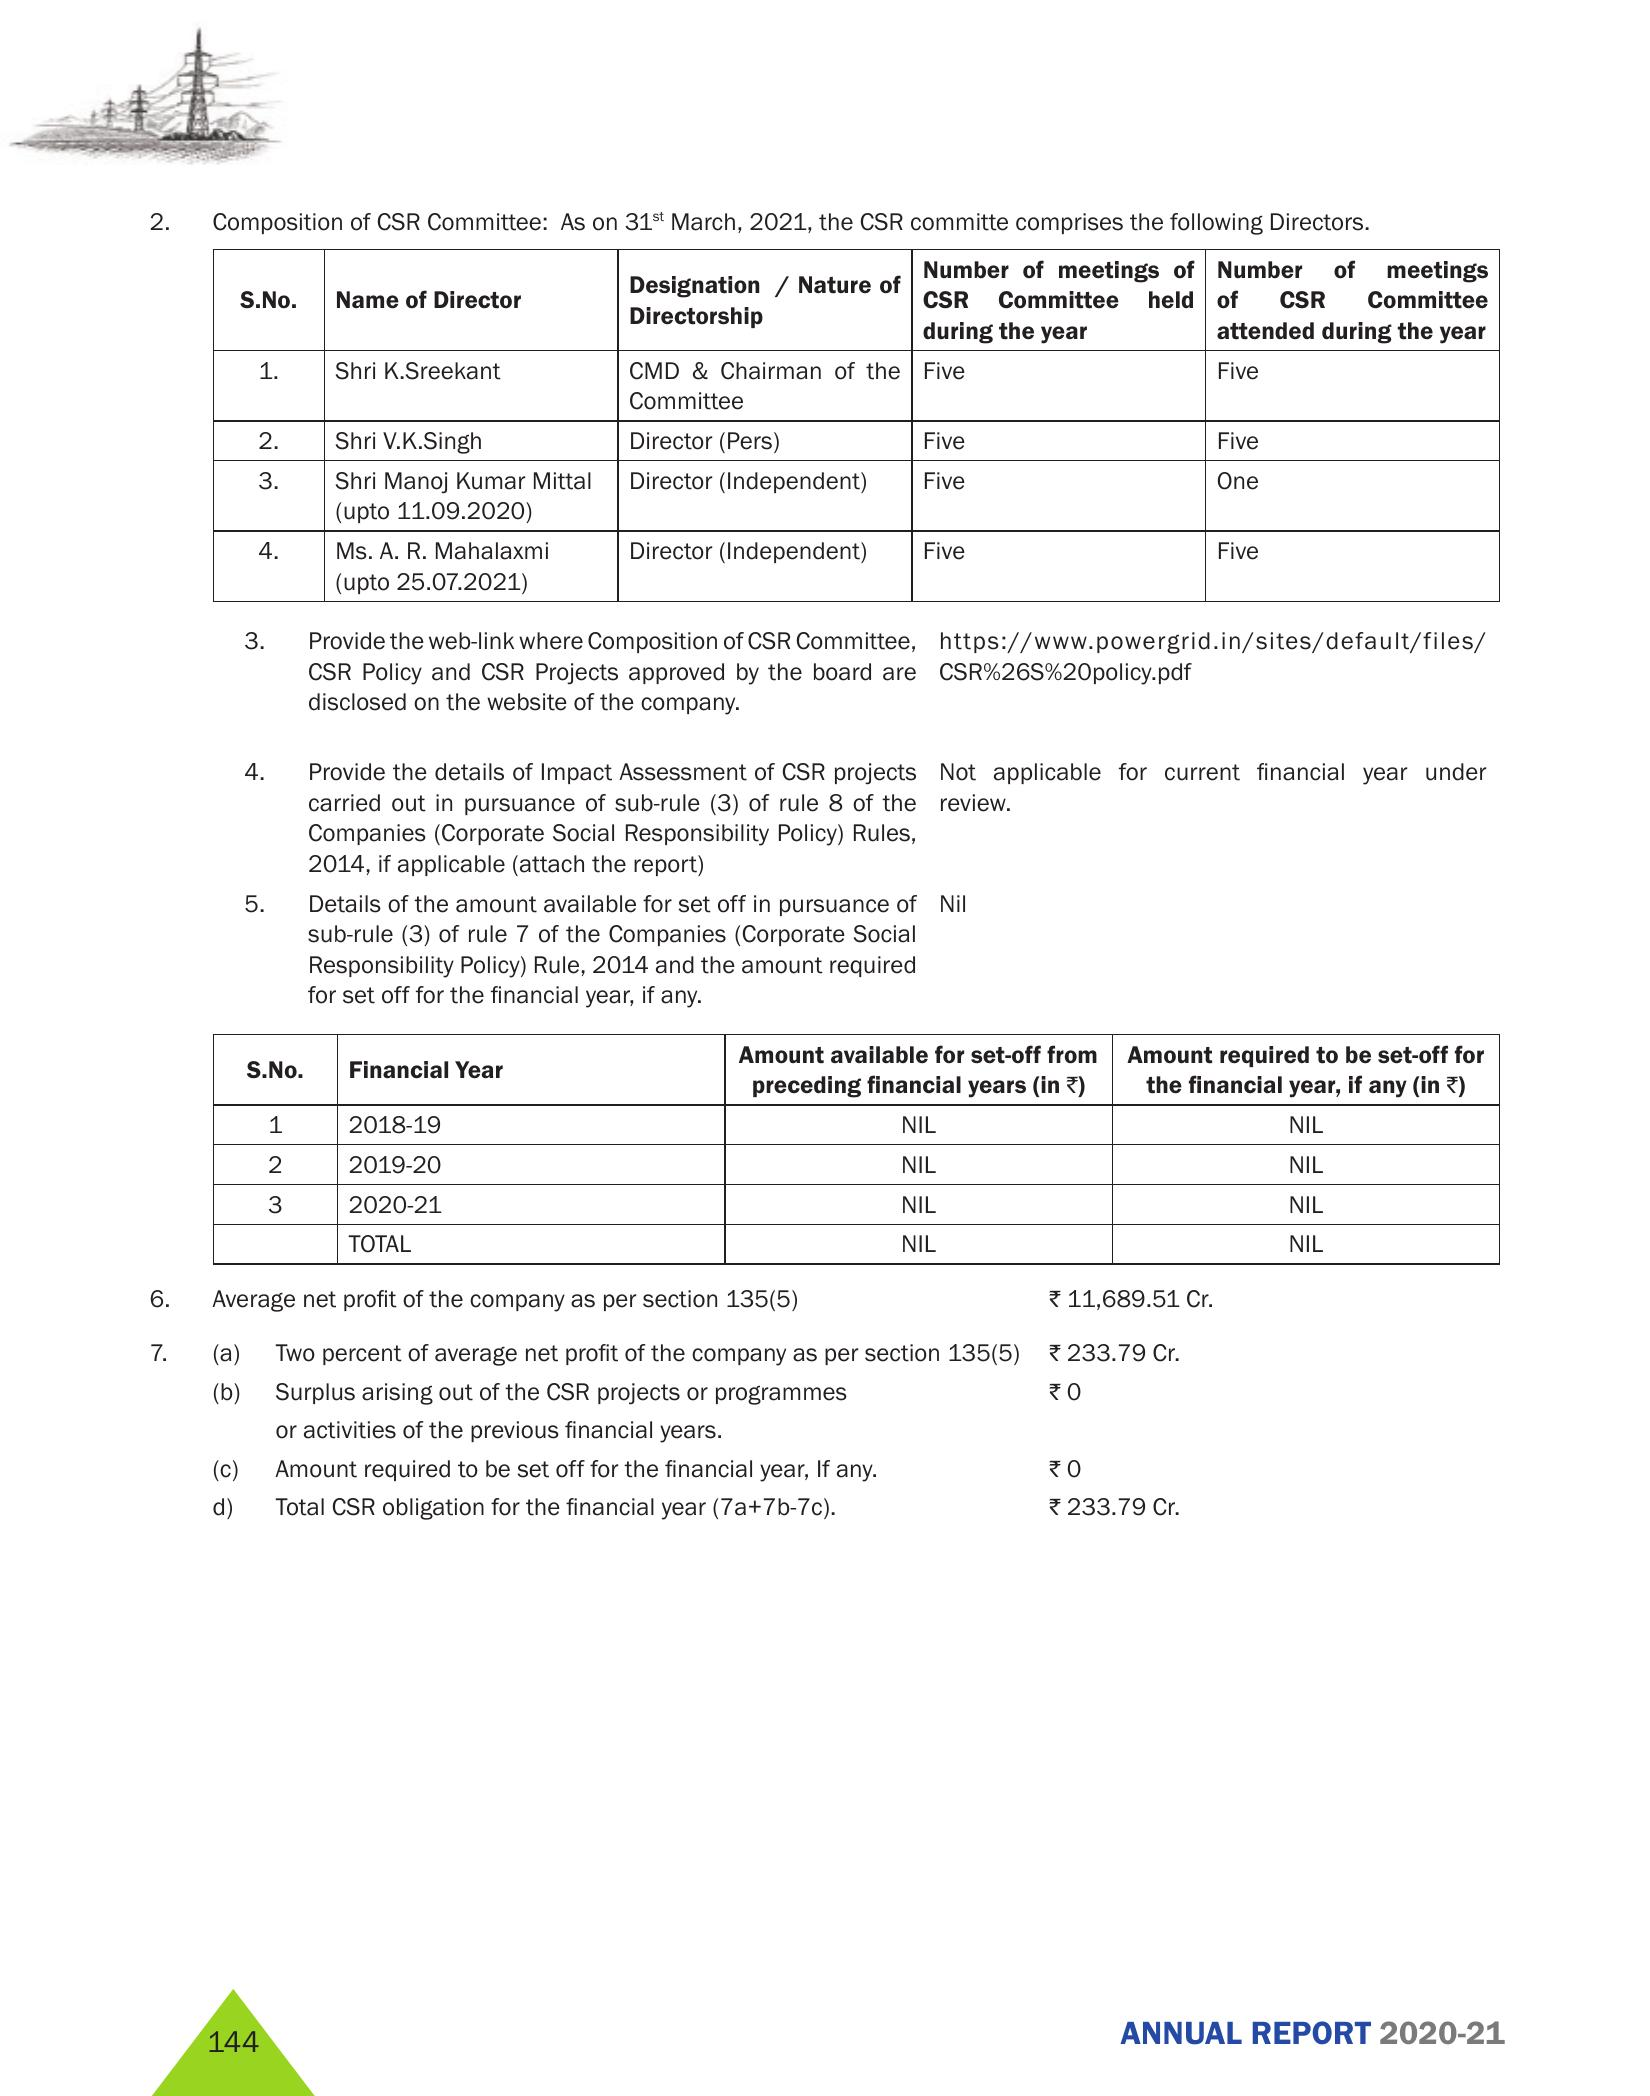Footer: (0, 1968, 1650, 2096)
Header: (0, 0, 1650, 180)
Table: (146, 242, 1585, 621), (139, 1017, 1516, 1267)
